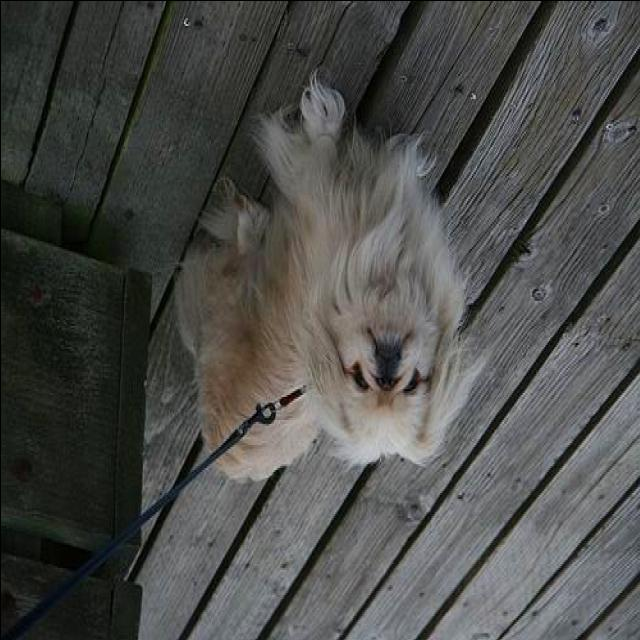pekinese: (172, 71, 472, 483)
